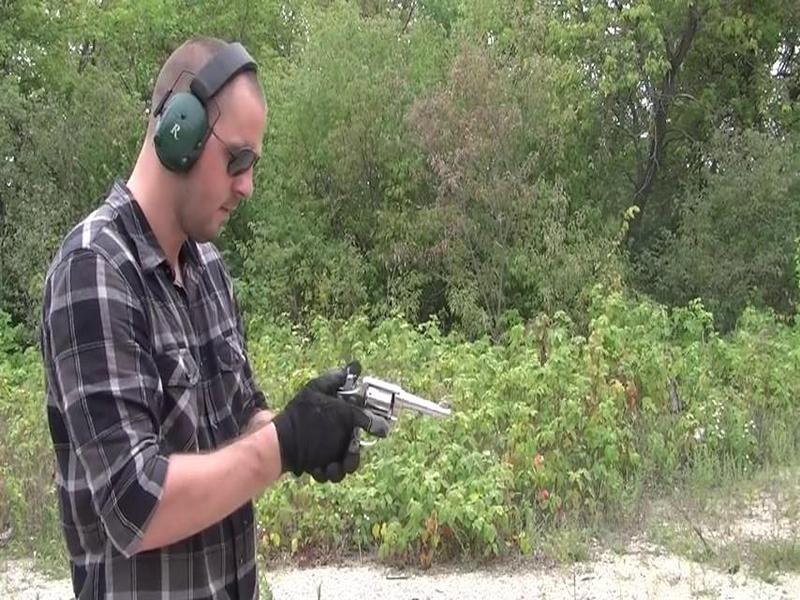Revolver: (327, 365, 455, 458)
